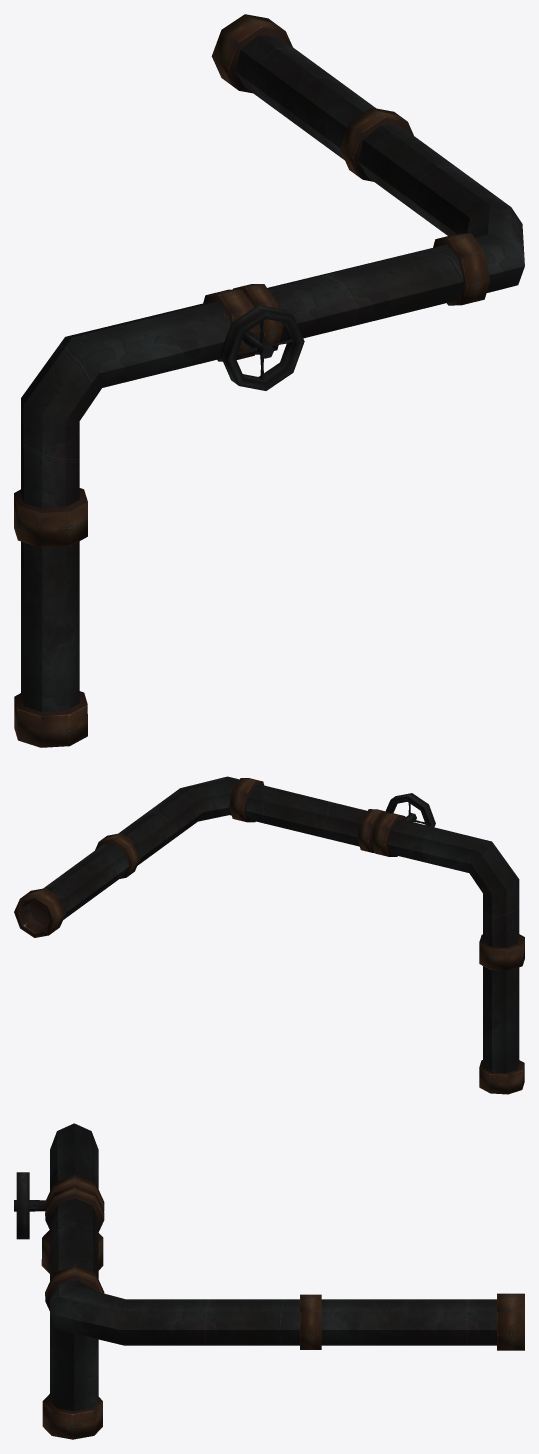
File: sewer_pipe006.FBX
3 views of the same model, one above another, from view 1: azimuth 30°, elevation 25°; view 2: azimuth 150°, elevation 25°; view 3: azimuth 270°, elevation 25° (orthographic). The views are drawn at different scales.
Parts seen in each view (by area): view 1: sewer_pipe006; view 2: sewer_pipe006; view 3: sewer_pipe006.
Boxes of the visible parts, x1,y1,x2,y2 form: sewer_pipe006: (14,14,524,747); sewer_pipe006: (14,776,524,1094); sewer_pipe006: (14,1123,524,1439).
Bounding box in the file's own units: 1478 × 1051 × 1504.
